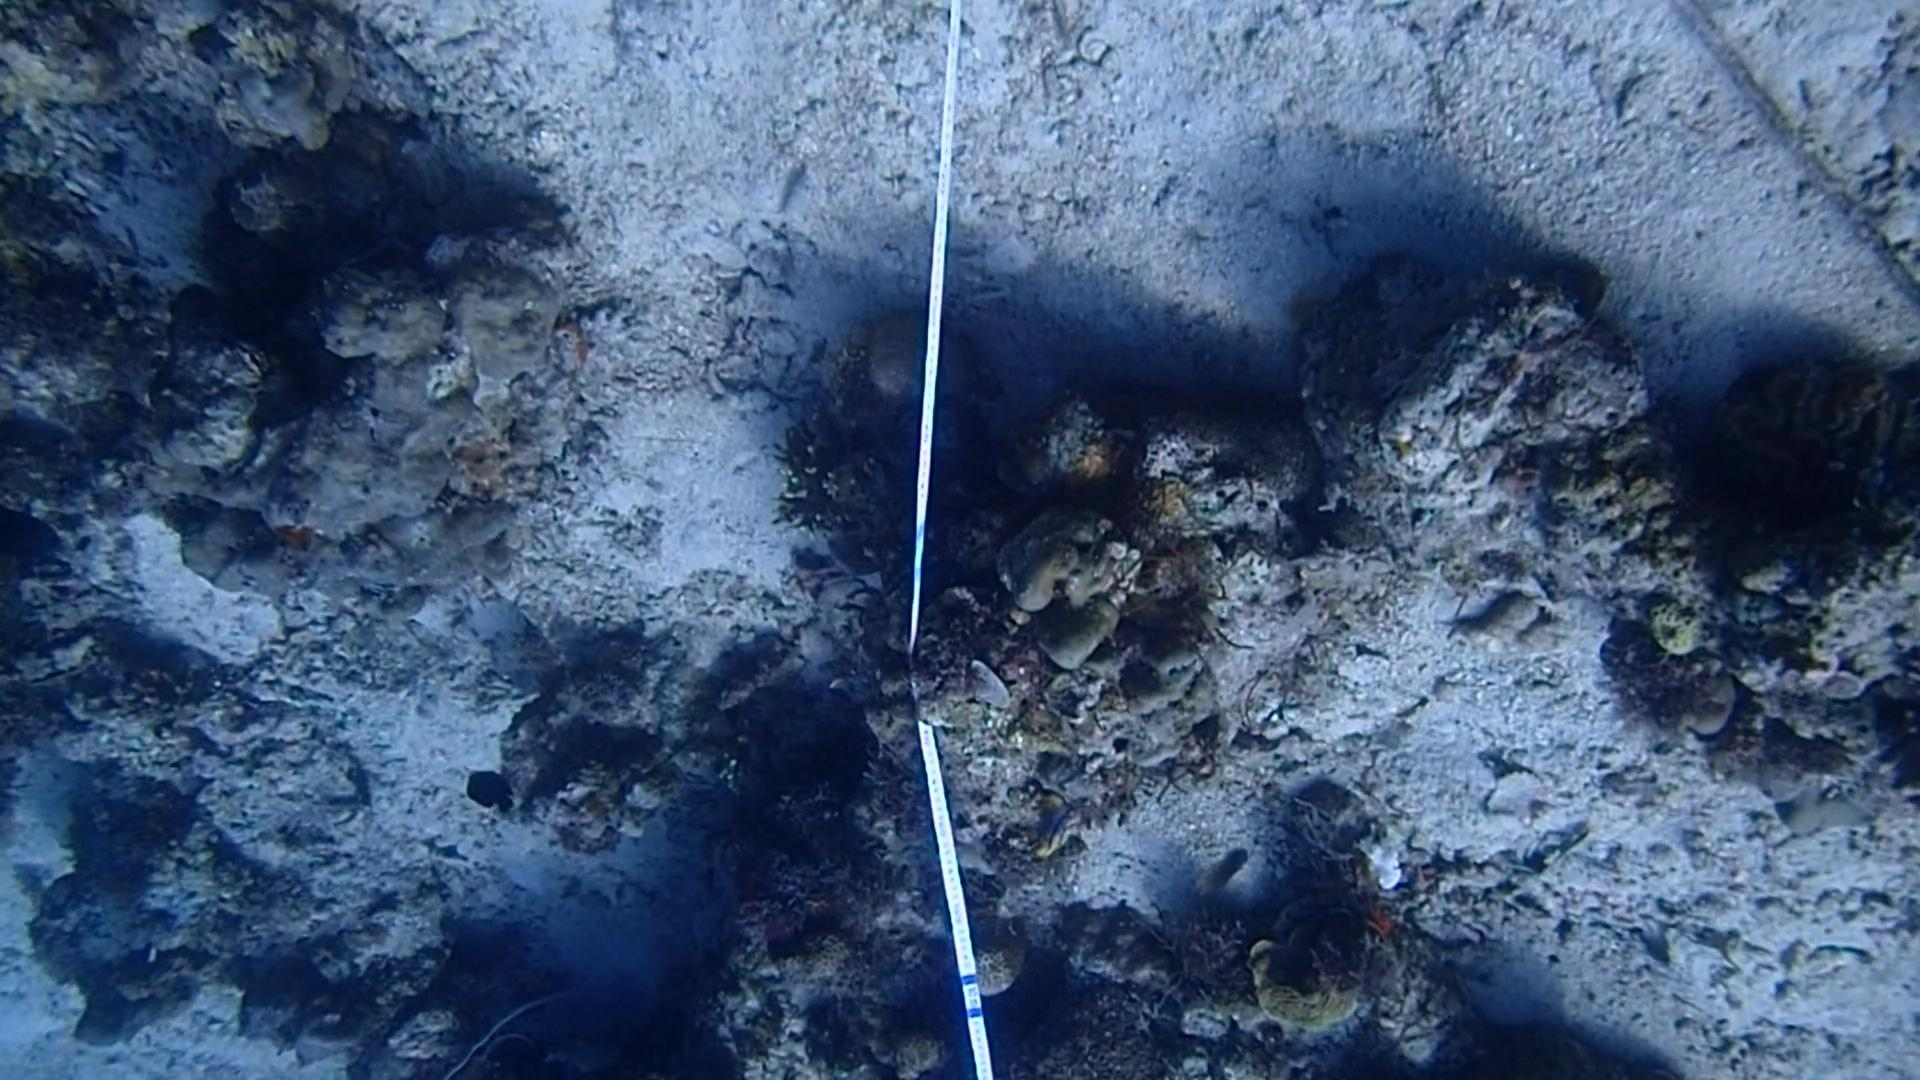Dark Fish: (0, 502, 62, 562), (462, 770, 518, 815)
Light Fish: (1193, 843, 1259, 902)
